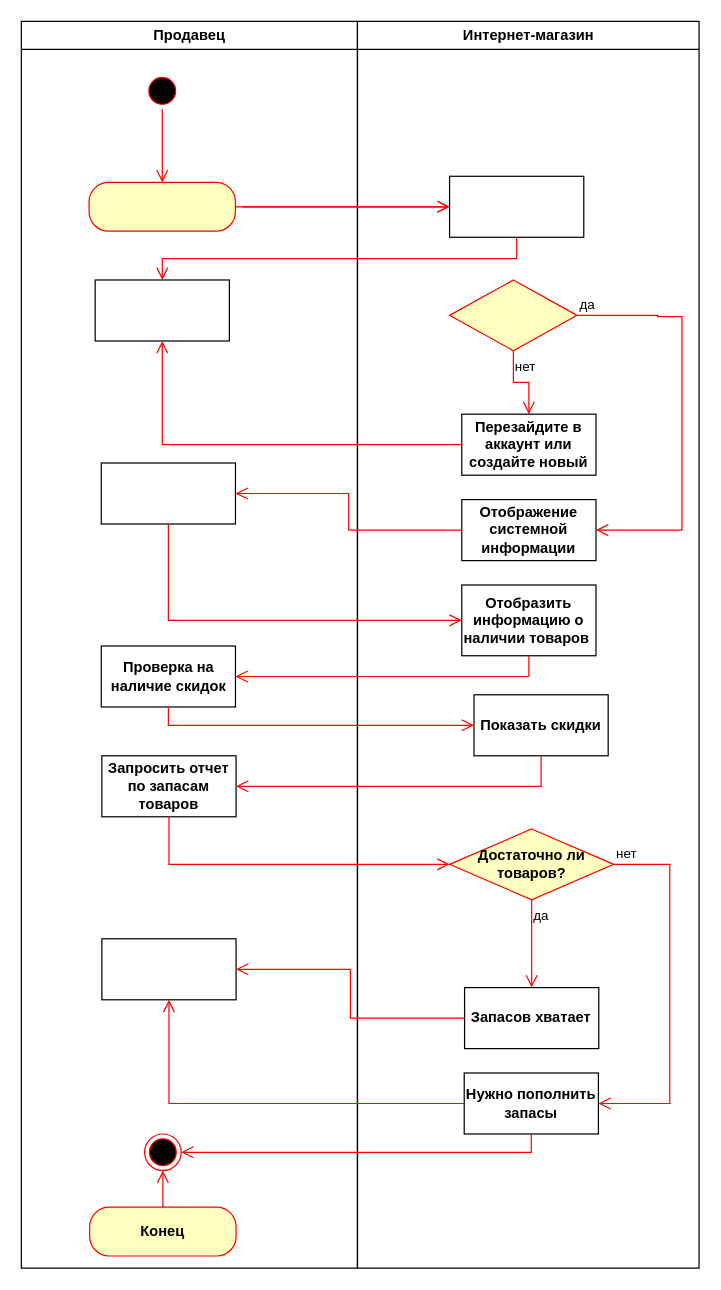
This 721x1290 diagram has some shape labels left out. Each missing label, with the centre of its shape:
"Данные верны?" goes at [512,315].
"Начало" goes at [161,206].
"Подтверждение данных" goes at [161,310].
"Прислать уведомление" goes at [168,969].
"Просмотр наличия товаров на сайте" goes at [167,493].
"Требуются данные для входа" goes at [516,206].
